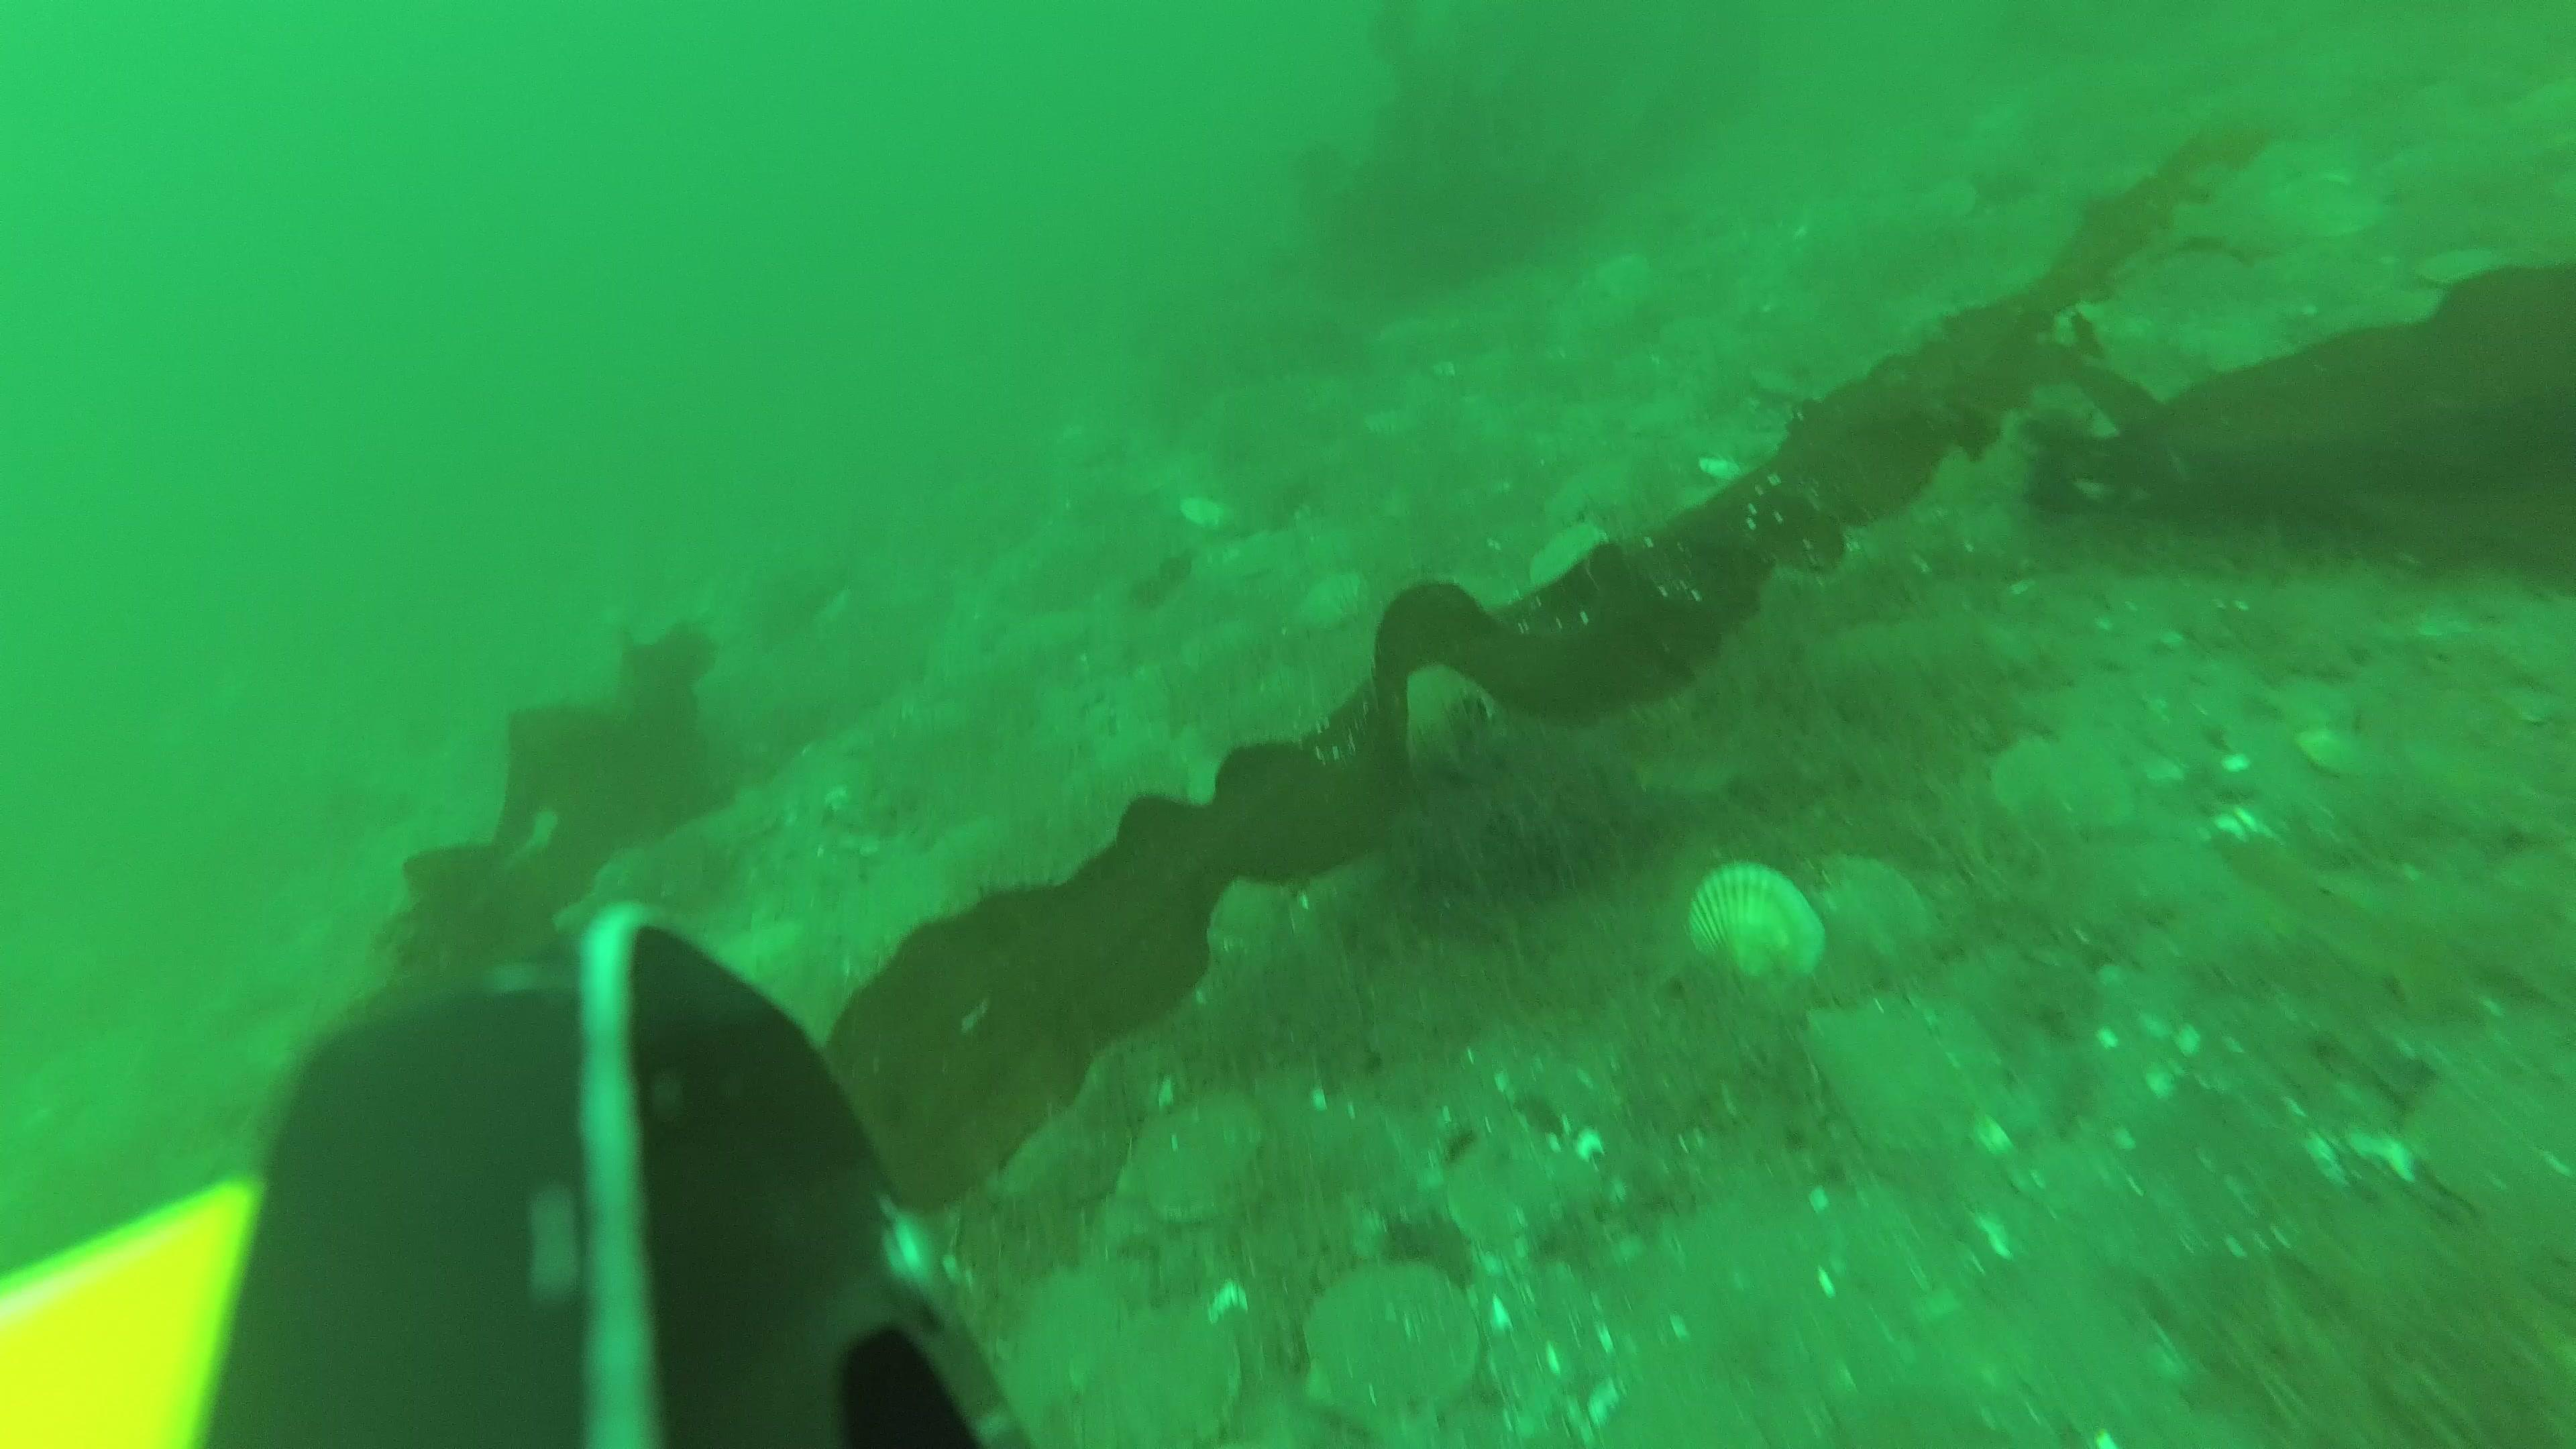scallop: (1813, 1005, 2010, 1157), (1302, 1270, 1479, 1424), (1077, 1313, 1244, 1449), (1453, 1123, 1589, 1261), (994, 1272, 1129, 1407), (1990, 736, 2143, 847), (1123, 1099, 1258, 1221), (1688, 858, 1813, 980), (1810, 855, 1927, 975), (1530, 529, 1606, 596), (1293, 575, 1373, 639)
